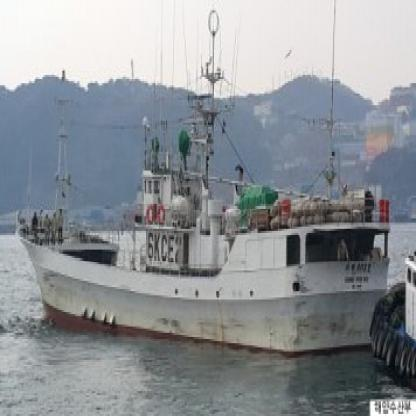fish-b: (9, 27, 395, 360)
